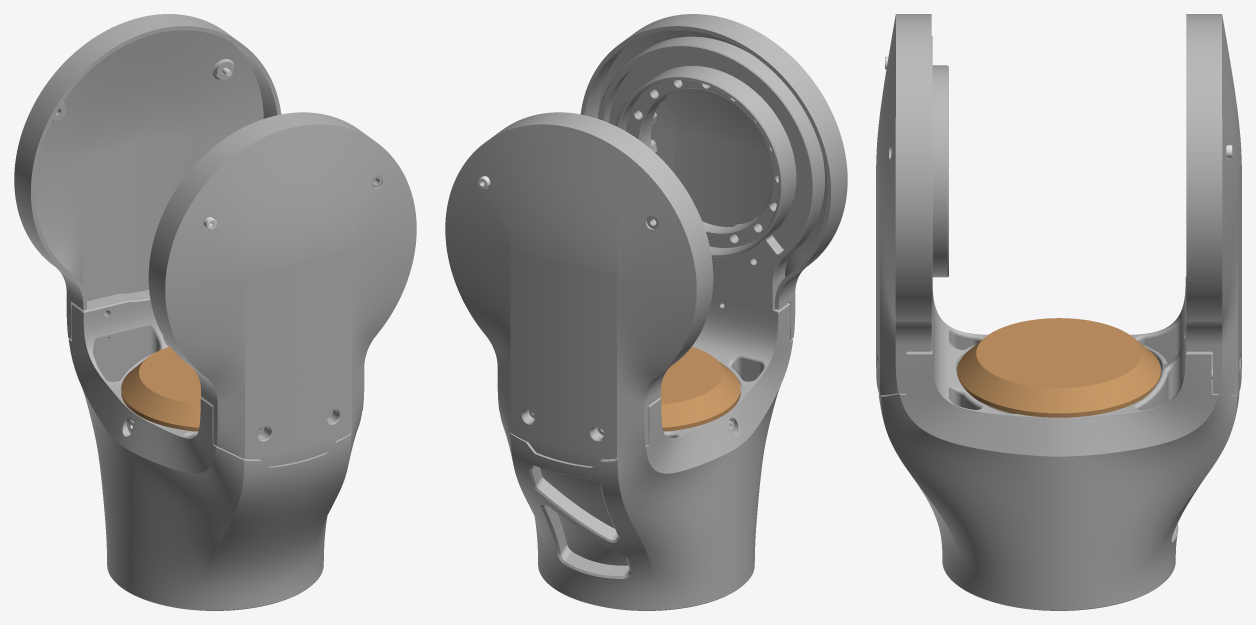
3 renders of one model, left to right at view 1: azimuth 30°, elevation 25°; view 2: azimuth 150°, elevation 25°; view 3: azimuth 270°, elevation 25°, orthographic. The views are drawn at different scales.
Visible parts, largest first — view 1: left_arm_link4_high; view 2: left_arm_link4_high; view 3: left_arm_link4_high.
Boxes of the visible parts, x1=… form: left_arm_link4_high: x1=14, y1=14, x2=416, y2=610; left_arm_link4_high: x1=445, y1=14, x2=847, y2=610; left_arm_link4_high: x1=876, y1=14, x2=1241, y2=610.
Bounding box in the file's own units: 0.1319 × 0.2471 × 0.1536.
